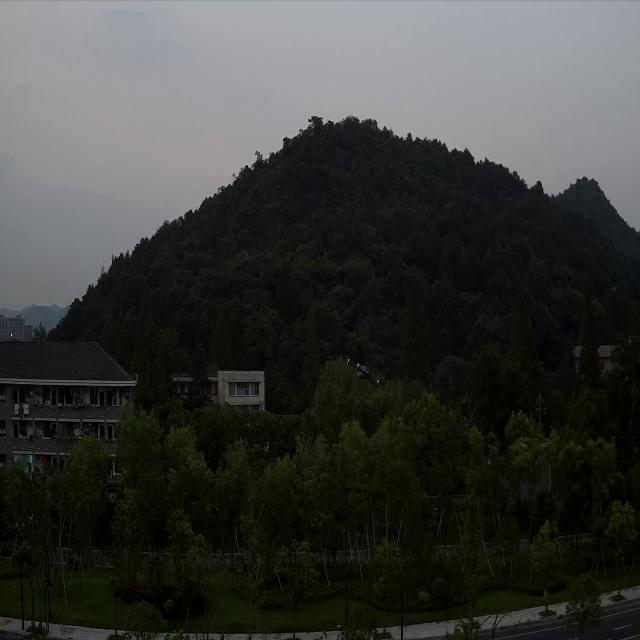UAV: (346, 354, 380, 388)
